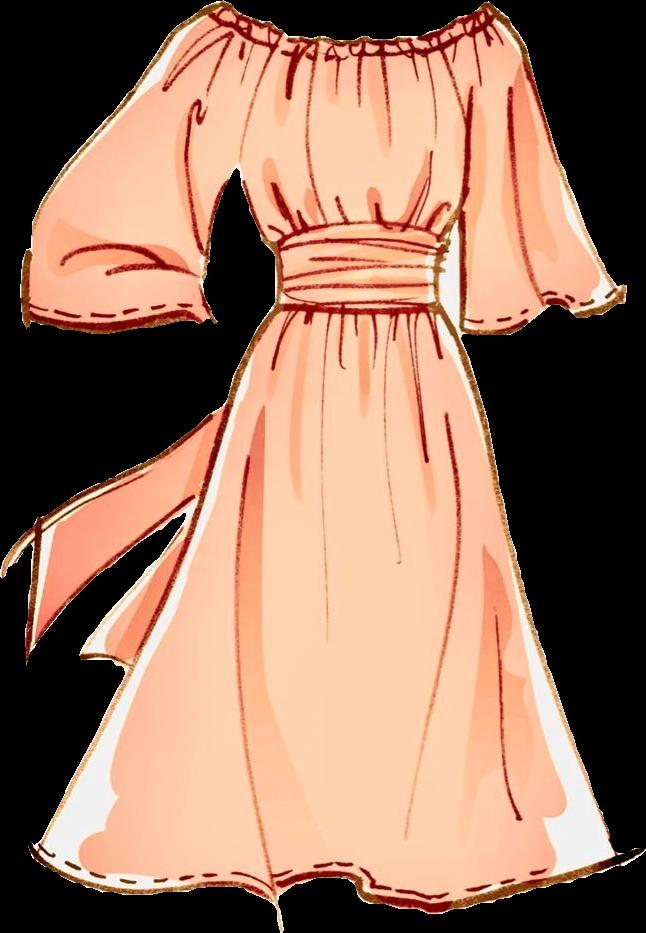Bodice: (233, 30, 470, 310)
Hemline: (28, 845, 623, 913)
Neckline: (268, 215, 449, 253), (280, 24, 439, 46)
Skirt: (29, 299, 634, 912)
Sleeve: (21, 1, 283, 333), (434, 2, 626, 334)
Sleeveline: (216, 0, 291, 172), (433, 3, 494, 178)
Waistline: (272, 296, 442, 318)
